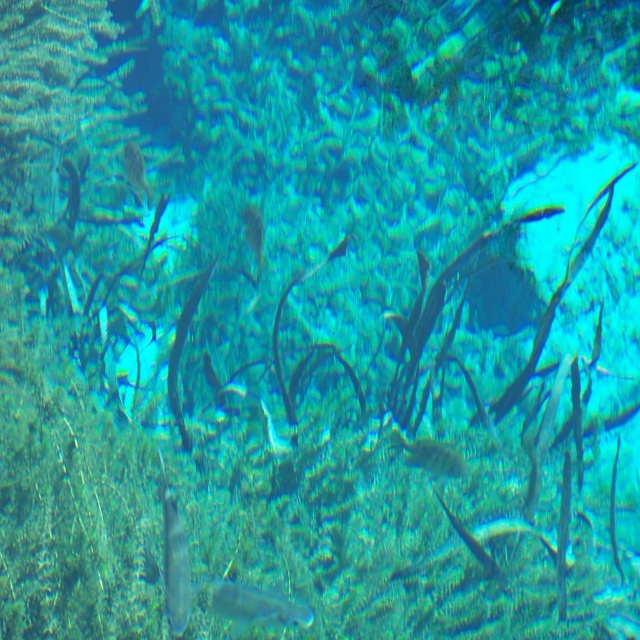Fish: (158, 443, 206, 638), (205, 582, 317, 639), (387, 437, 471, 480), (240, 202, 267, 284), (122, 144, 156, 209)
